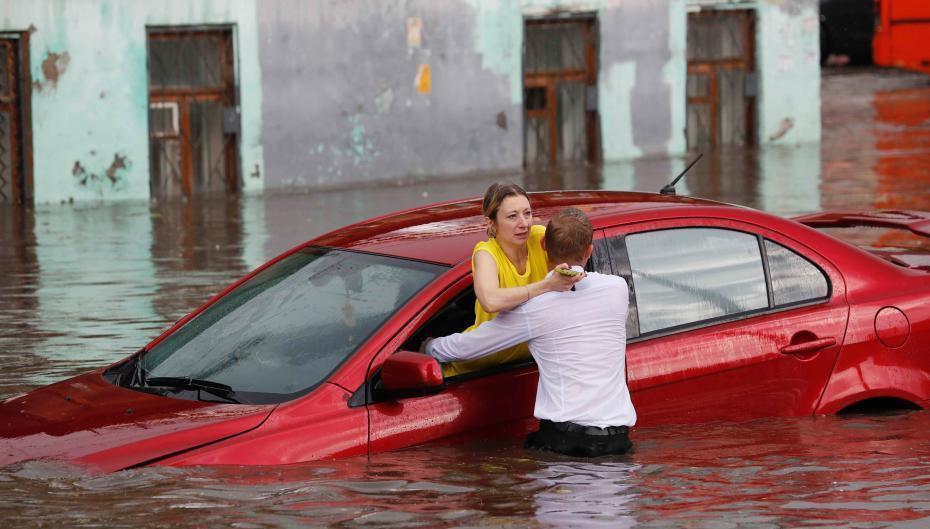water: (3, 68, 927, 392), (1, 409, 927, 527)
